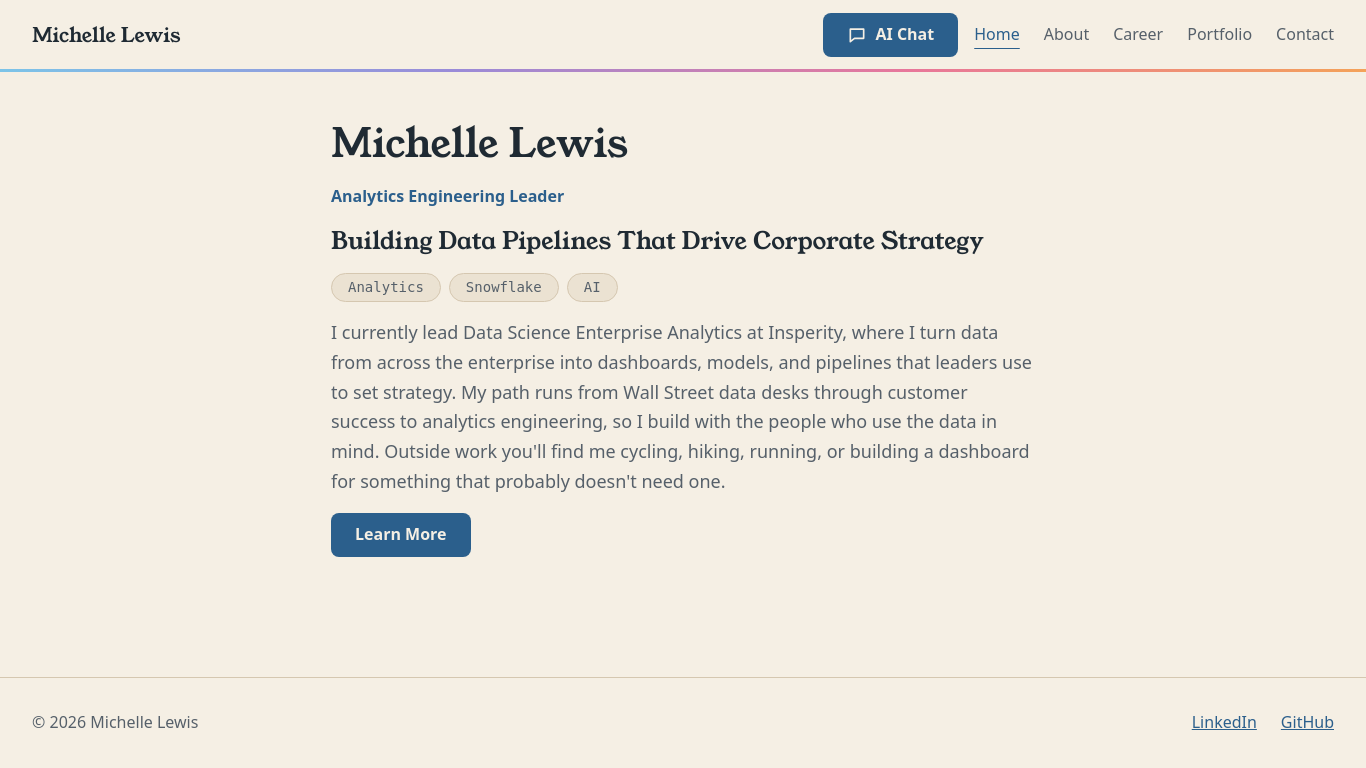
Test case: phone: clicking the button opens the chat full screen and locks the page
Click the button "AI Chat".
click(891, 34)  # box x1=824 y1=12 x2=958 y2=56
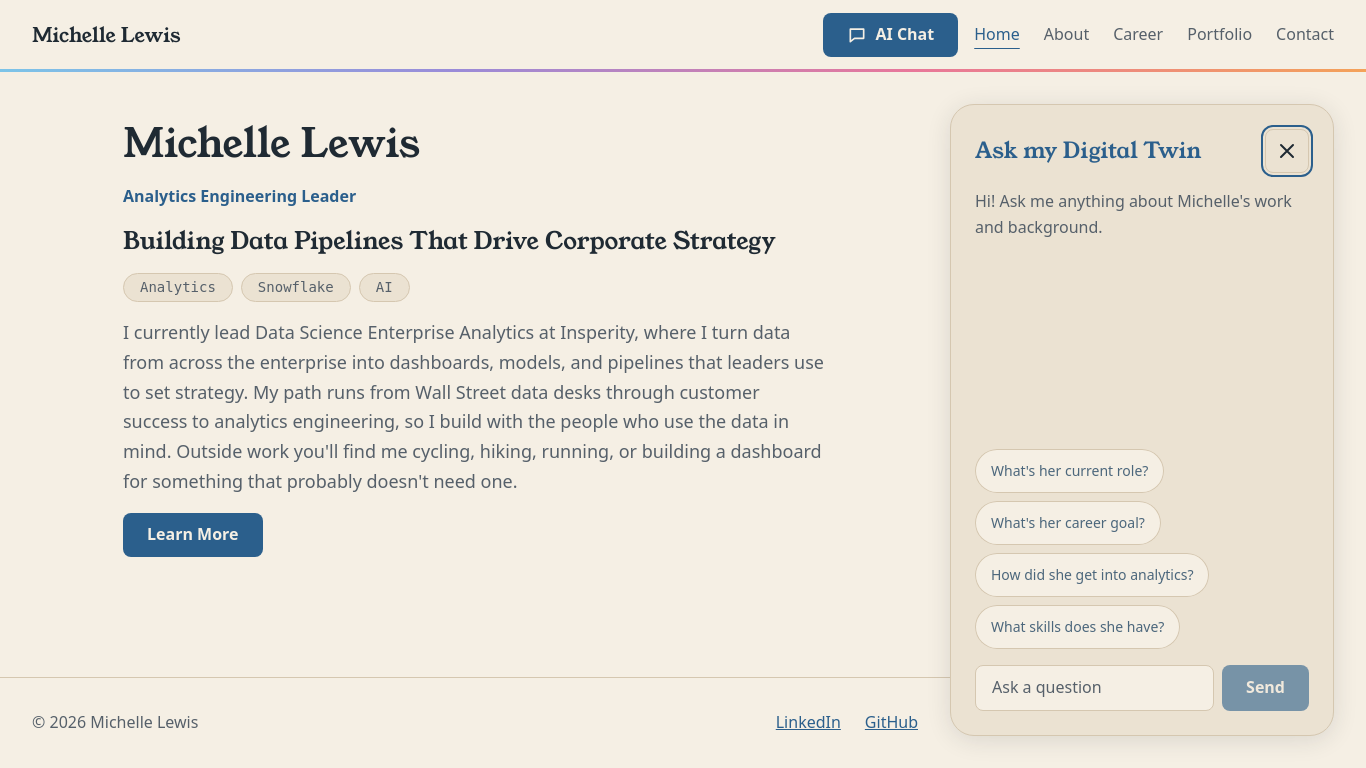
Expected: the dialog "Ask my Digital Twin" is shown, x1=950 y1=104 x2=1334 y2=736
Expected: the text "Hi! Ask me anything about Michelle's work and background." is shown, x1=975 y1=189 x2=1293 y2=240
